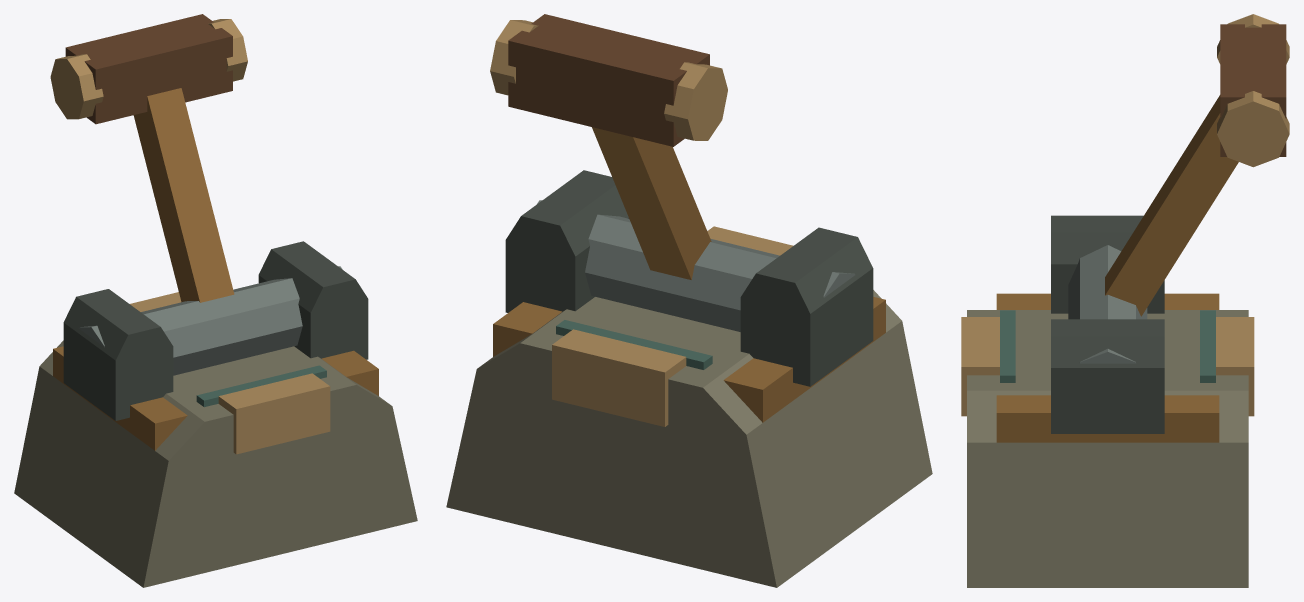
File: VAULT_LEVER.shadow.glb
3 views of the same model, side by side, from view 1: azimuth 30°, elevation 25°; view 2: azimuth 150°, elevation 25°; view 3: azimuth 270°, elevation 25° (orthographic). The views are drawn at different scales.
Parts seen in each view (by area): view 1: Body_Mesh, LeverPivot_Mesh; view 2: Body_Mesh, LeverPivot_Mesh; view 3: Body_Mesh, LeverPivot_Mesh.
Boxes of the visible parts, box(x1,y1,x2,y2) form: Body_Mesh: box(14, 241, 417, 587); LeverPivot_Mesh: box(50, 14, 247, 302); Body_Mesh: box(446, 170, 932, 587); LeverPivot_Mesh: box(490, 14, 727, 279); Body_Mesh: box(961, 215, 1254, 587); LeverPivot_Mesh: box(1105, 14, 1289, 316).
Bounding box in the file's own units: 0.76 × 1.11 × 0.7225.
